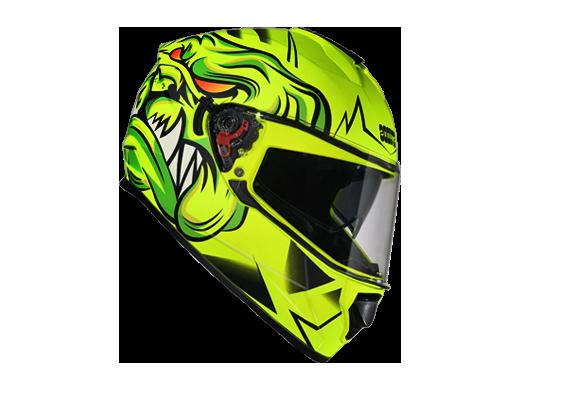Helmet: (121, 27, 400, 364)
